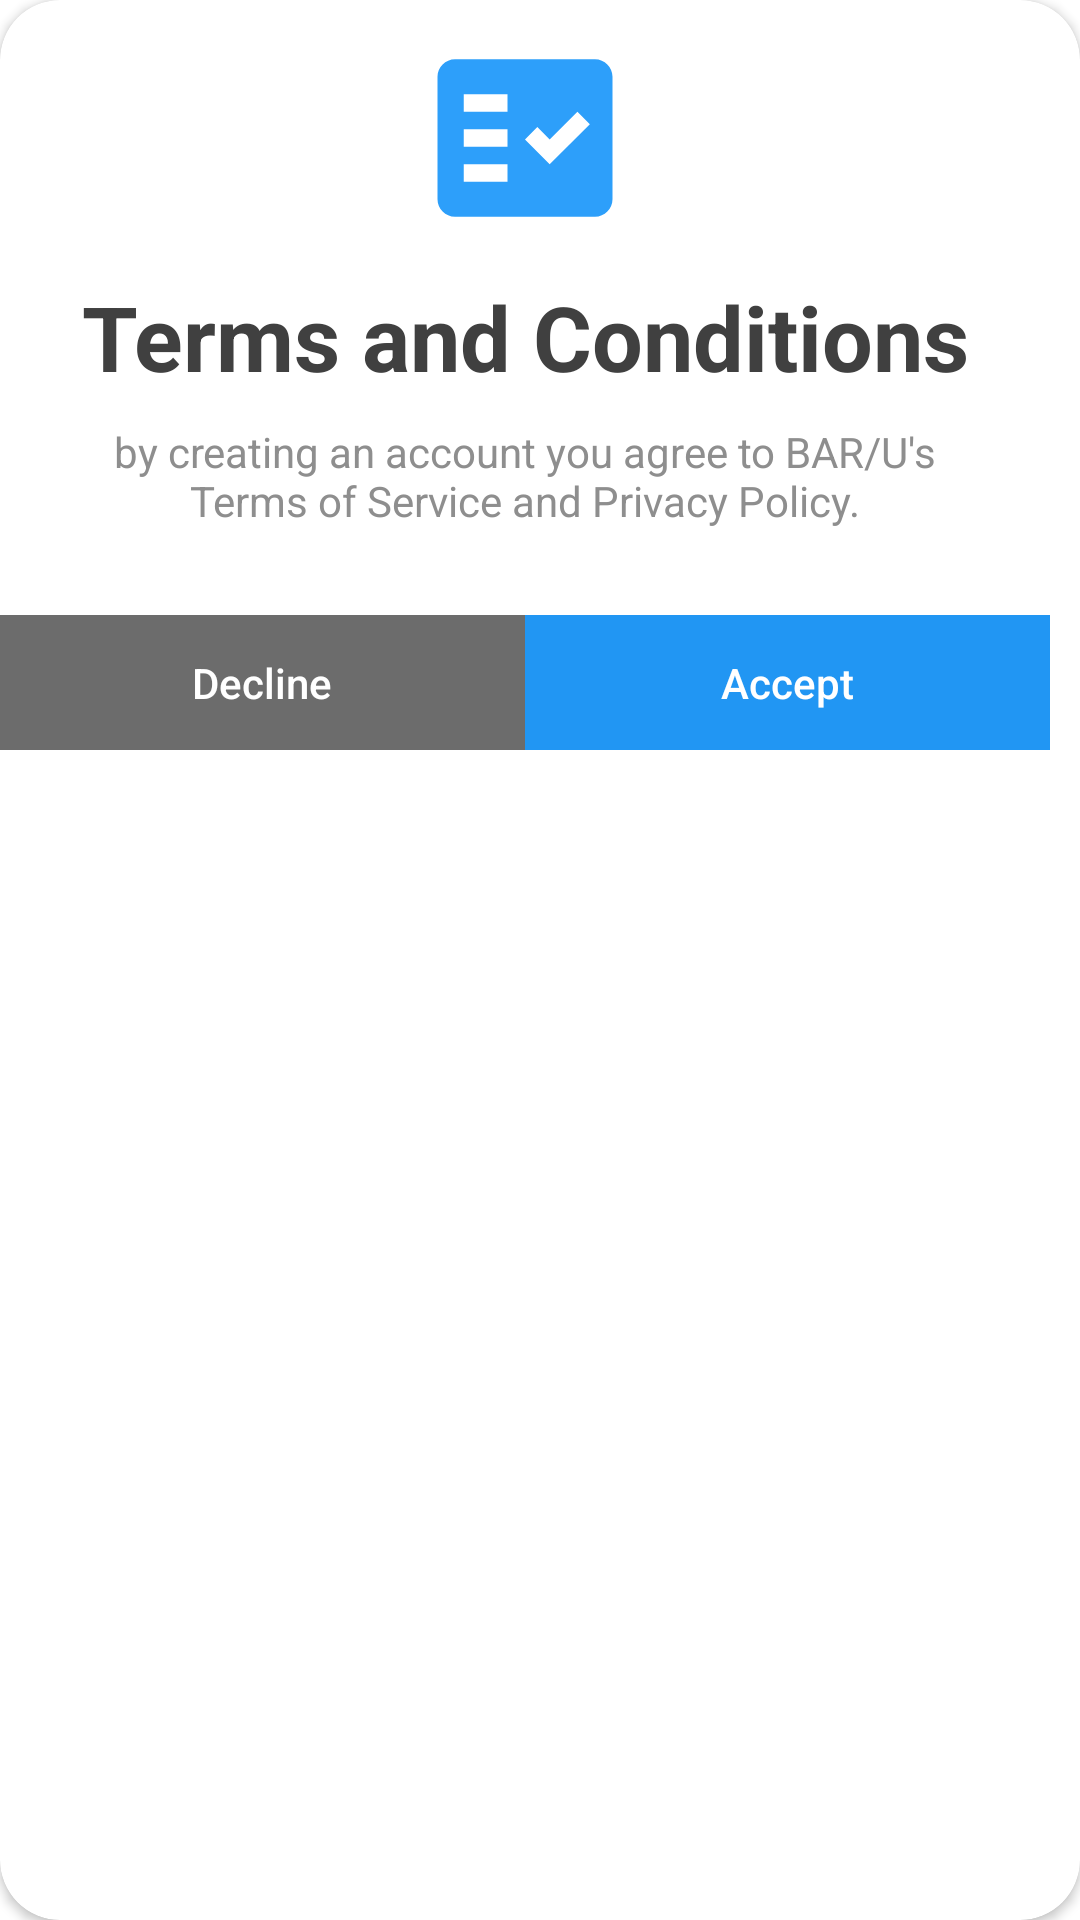

Where icons sit on this 1080×1920 app screen, as detection(x1, y1, x2, y2):
fact check: detection(437, 59, 613, 217)
